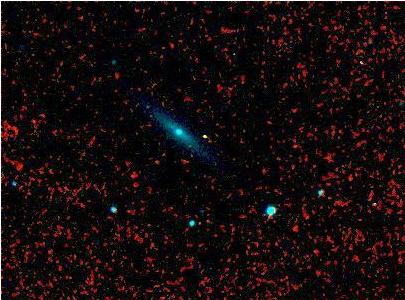star: (132, 92, 162, 122)
